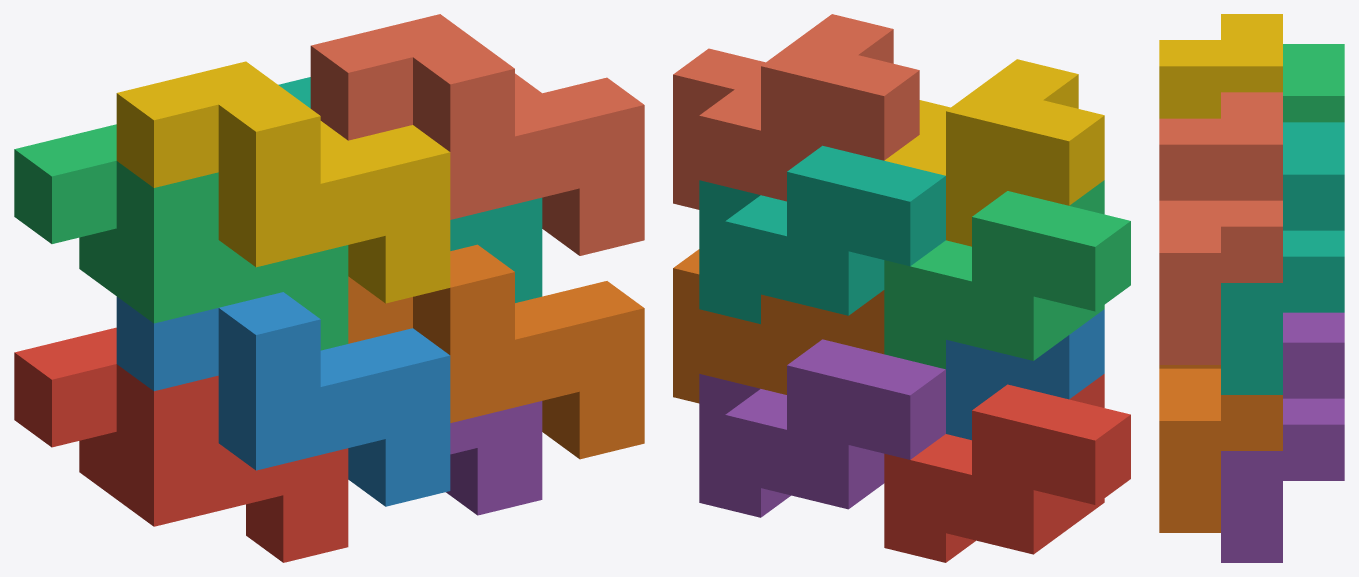
The model's file is tiling.obj.
3 views of the same model, side by side, from view 1: azimuth 30°, elevation 25°; view 2: azimuth 150°, elevation 25°; view 3: azimuth 270°, elevation 25° (orthographic). The views are drawn at different scales.
Parts seen in each view (by area): view 1: copy_1_domain_4, copy_1_domain_8, copy_1_domain_2, copy_1_domain_1, copy_1_domain_6, copy_1_domain_3, copy_1_domain_5, copy_1_domain_7; view 2: copy_1_domain_8, copy_1_domain_5, copy_1_domain_1, copy_1_domain_7, copy_1_domain_3, copy_1_domain_4, copy_1_domain_6, copy_1_domain_2; view 3: copy_1_domain_8, copy_1_domain_7, copy_1_domain_5, copy_1_domain_6, copy_1_domain_4, copy_1_domain_3.
Boxes of the visible parts, x1,y1,x2,y2 form: copy_1_domain_4: (116, 61, 450, 303); copy_1_domain_8: (310, 14, 644, 255); copy_1_domain_2: (116, 292, 450, 506); copy_1_domain_1: (14, 327, 348, 562); copy_1_domain_6: (348, 244, 644, 459); copy_1_domain_3: (14, 124, 348, 350); copy_1_domain_5: (446, 401, 542, 515); copy_1_domain_7: (278, 77, 542, 302); copy_1_domain_8: (673, 14, 919, 209); copy_1_domain_5: (699, 339, 945, 517); copy_1_domain_1: (884, 374, 1130, 562); copy_1_domain_7: (699, 145, 945, 324); copy_1_domain_3: (884, 180, 1130, 369); copy_1_domain_4: (884, 59, 1104, 246); copy_1_domain_6: (673, 249, 884, 403); copy_1_domain_2: (946, 309, 1104, 440); copy_1_domain_8: (1159, 92, 1282, 364); copy_1_domain_7: (1221, 122, 1344, 394); copy_1_domain_5: (1221, 312, 1344, 562); copy_1_domain_6: (1159, 365, 1282, 532); copy_1_domain_4: (1159, 14, 1282, 118); copy_1_domain_3: (1283, 44, 1344, 122).
Size of the model in its own units: 8 by 7 by 3.
